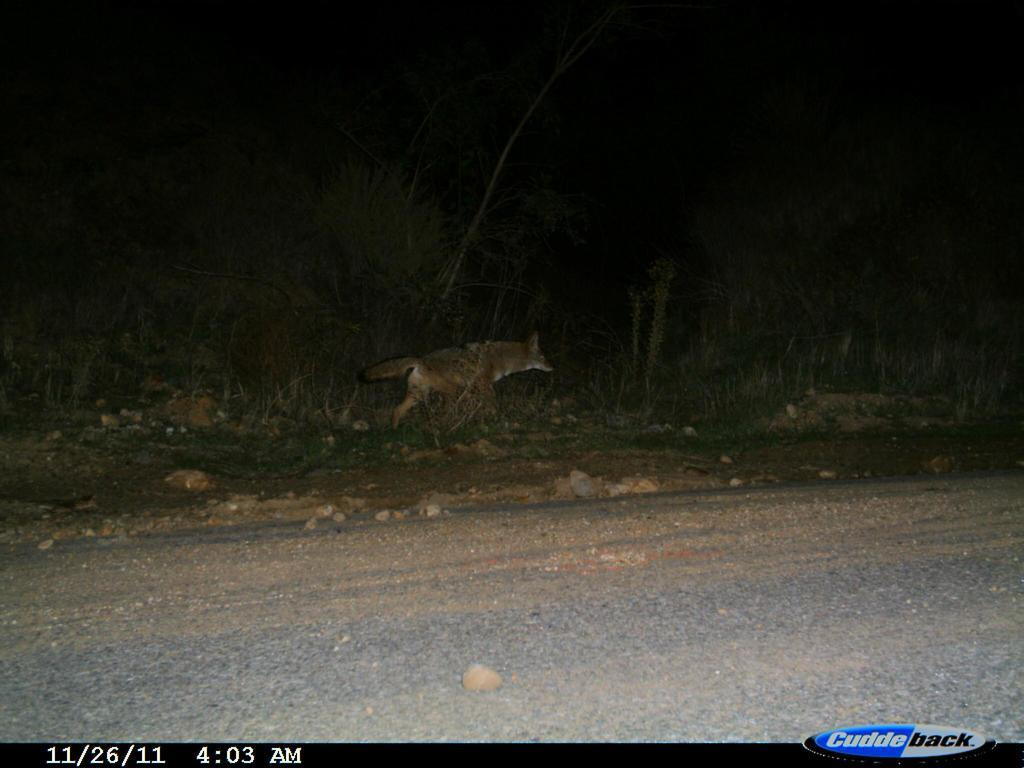coyote: (346, 315, 573, 443)
